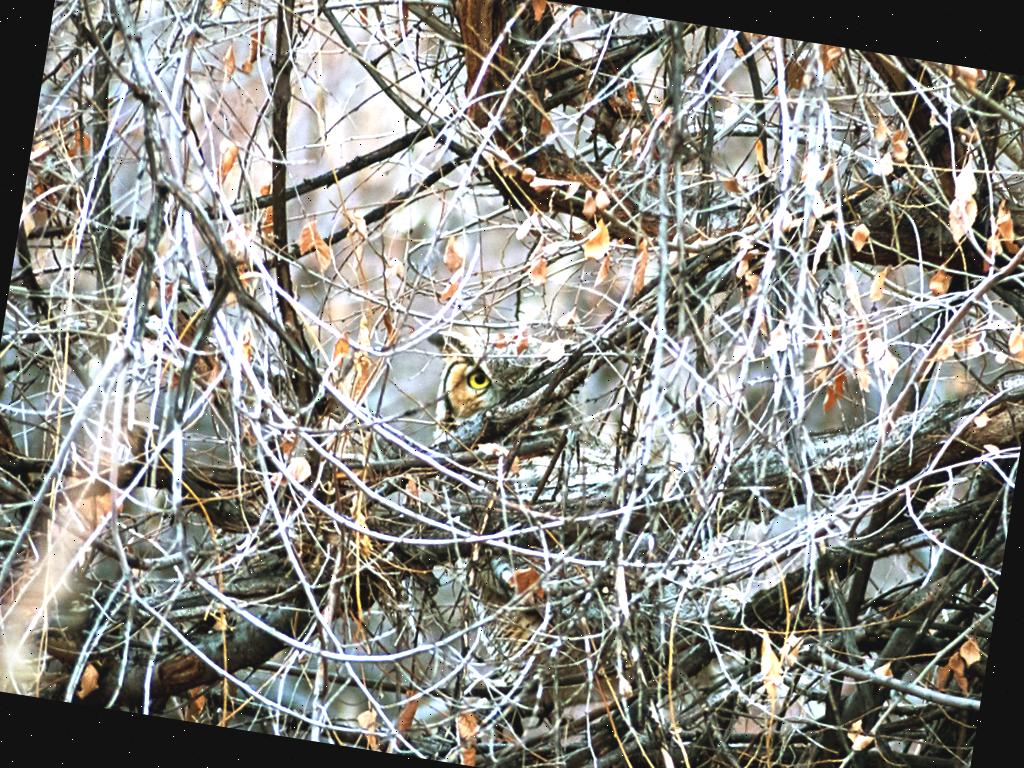Owl: (385, 314, 619, 674)
